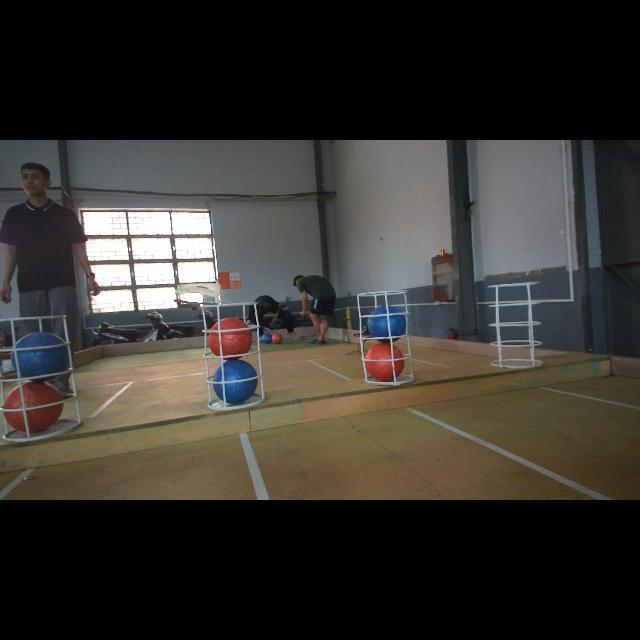B: (12, 331, 72, 382), (212, 360, 258, 402), (368, 304, 406, 342)
R: (0, 382, 66, 431), (208, 317, 252, 359), (364, 344, 406, 380)
